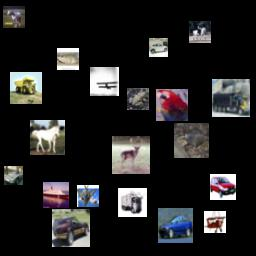airplane: (90, 67, 119, 96), (204, 211, 226, 233), (77, 185, 99, 207)
automobile: (52, 209, 90, 247), (158, 208, 193, 243), (210, 174, 236, 200), (149, 38, 168, 57), (4, 166, 23, 185)
bird: (174, 123, 209, 158), (156, 89, 188, 121)
deer: (112, 136, 150, 174)
frog: (57, 48, 79, 70), (127, 88, 149, 110)
ship: (43, 182, 69, 208)
truck: (212, 79, 250, 117), (10, 72, 42, 104), (118, 188, 147, 217)
